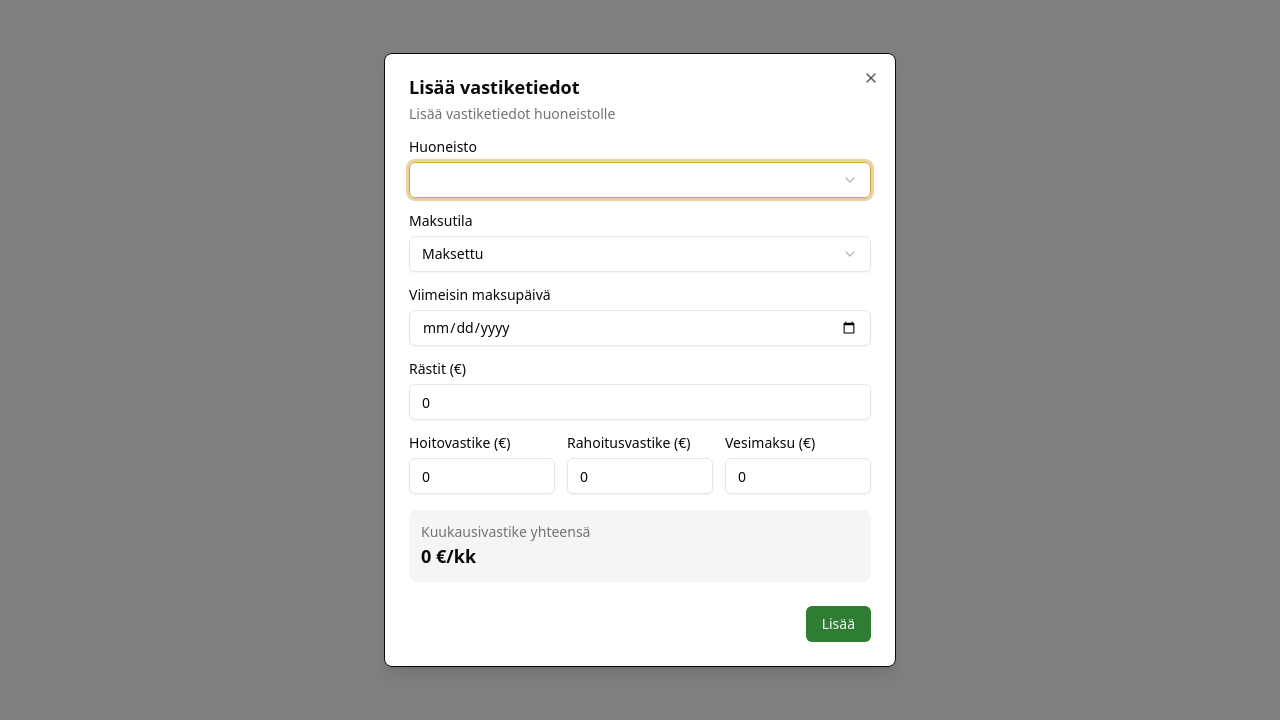
Scenario: PaymentFormDialog › shows validation error when date is missing in create mode
The image size is (1280, 720).
Step 1. Click the button "Lisää" → [838, 624], box [806,606,871,642]
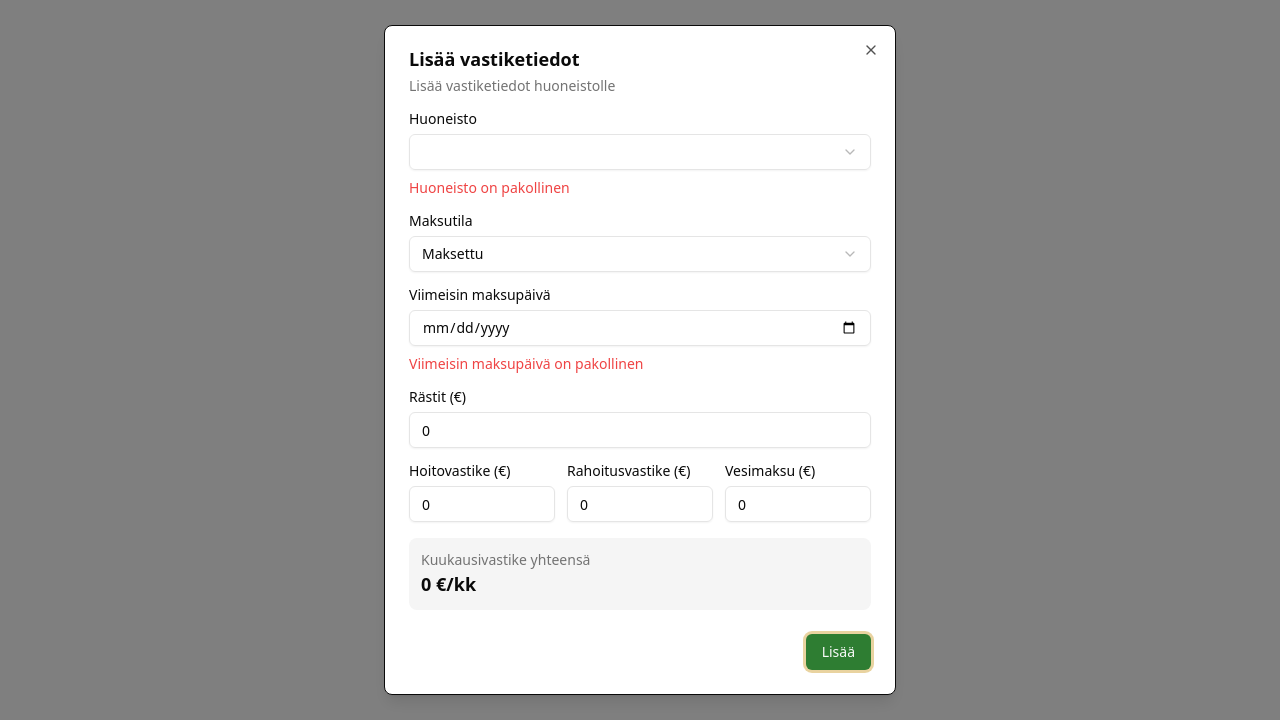
Expected: the text "Viimeisin maksupäivä on pakollinen" is shown, [409,354,644,373]
